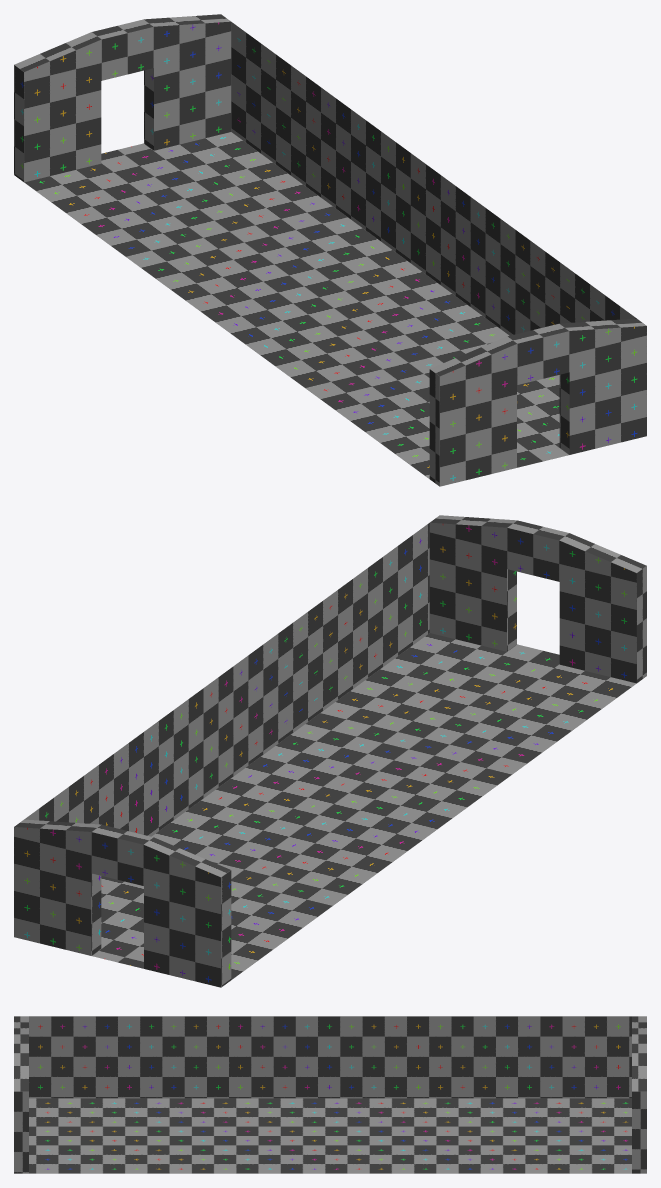
Rendered from mdl_traincar_proto.glb.
3 views of the same model, one above another, from view 1: azimuth 30°, elevation 25°; view 2: azimuth 150°, elevation 25°; view 3: azimuth 270°, elevation 25° (orthographic). The views are drawn at different scales.
Visible parts, largest first — view 1: Car; view 2: Car; view 3: Car.
Boxes of the visible parts, <box> form: Car: <box>14,14,646,486</box>; Car: <box>14,515,646,987</box>; Car: <box>14,1016,646,1173</box>.
Size of the model in its own units: 5.9 by 3.38 by 21.
Materials: 1 (1 with a texture image).
